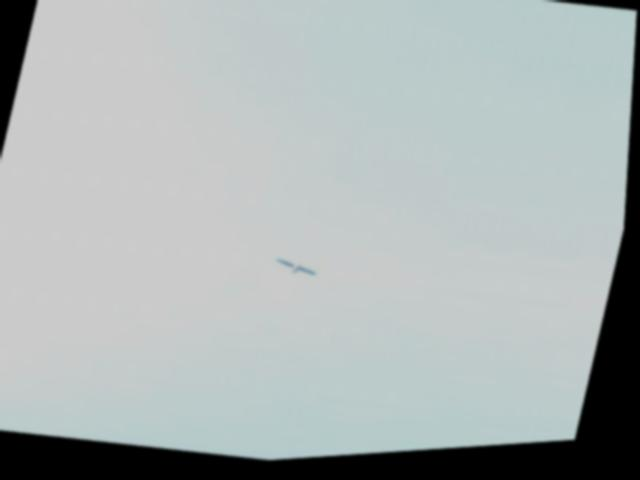iha: (276, 260, 322, 283)
